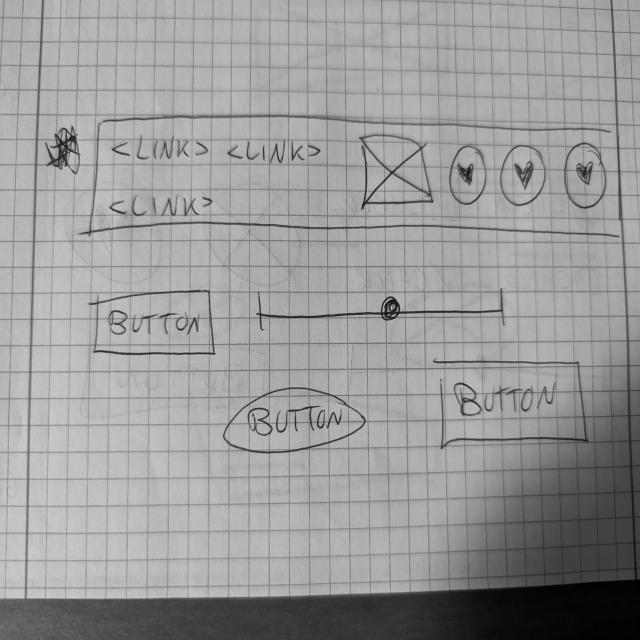button: (434, 355, 592, 453), (223, 385, 370, 458), (92, 289, 219, 360)
container: (87, 113, 626, 245)
icon-button: (563, 141, 608, 212), (500, 142, 548, 208), (449, 144, 490, 209)
image: (359, 133, 436, 211)
link: (110, 131, 211, 164), (227, 138, 326, 168), (109, 193, 216, 220)
slider: (257, 288, 508, 336)
